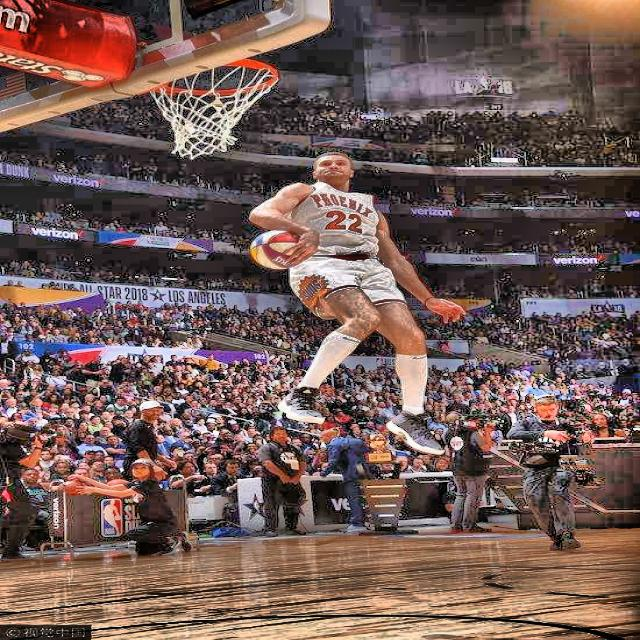rim: (143, 57, 279, 158)
